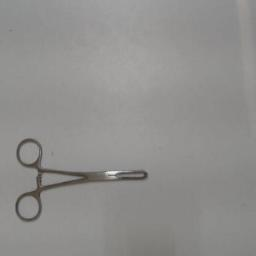Allis Tissue Forceps: (10, 132, 158, 226)
